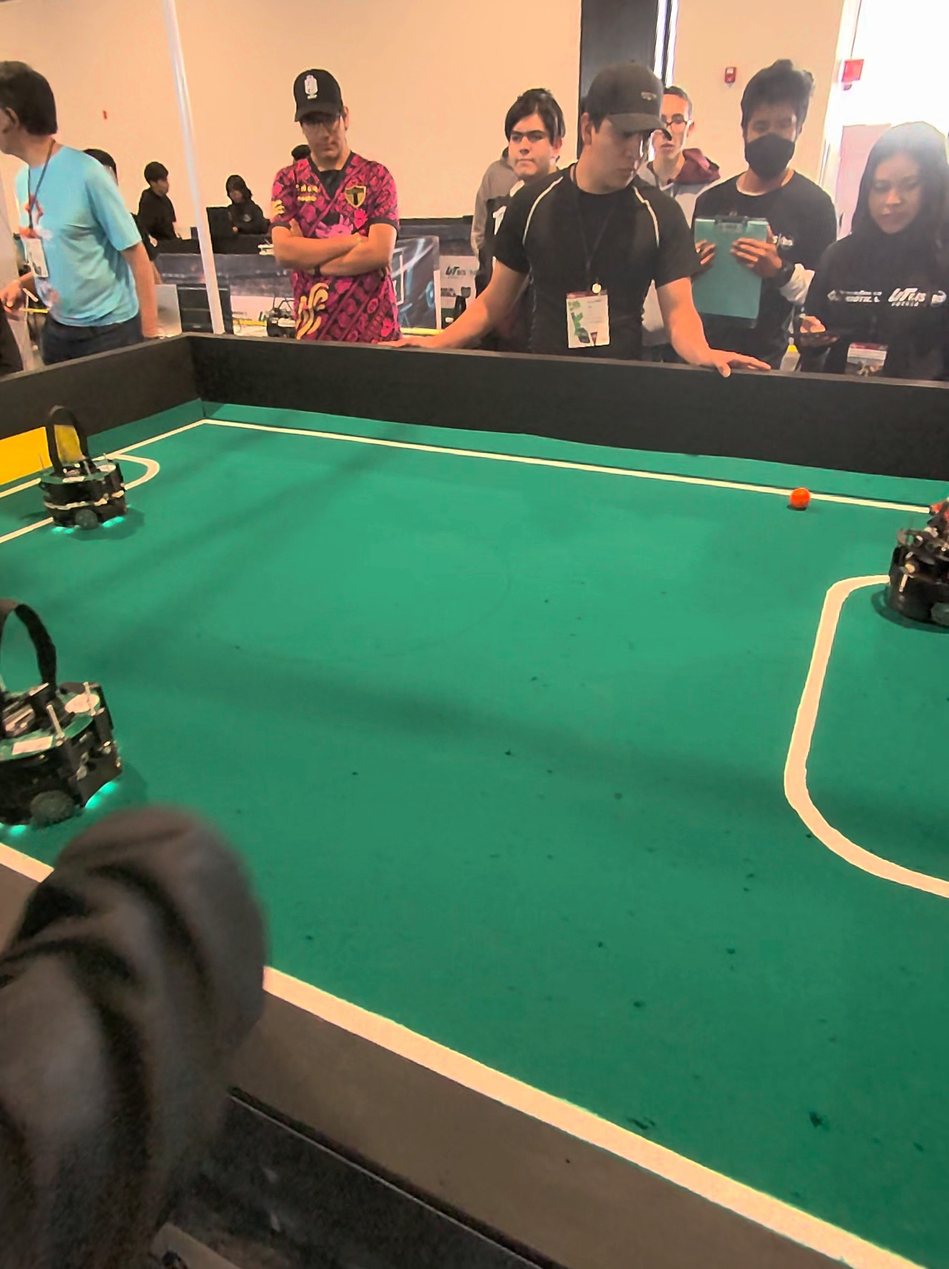Robot: (0, 579, 129, 848), (32, 410, 135, 555), (886, 500, 949, 641)
pelota: (786, 486, 810, 513)
